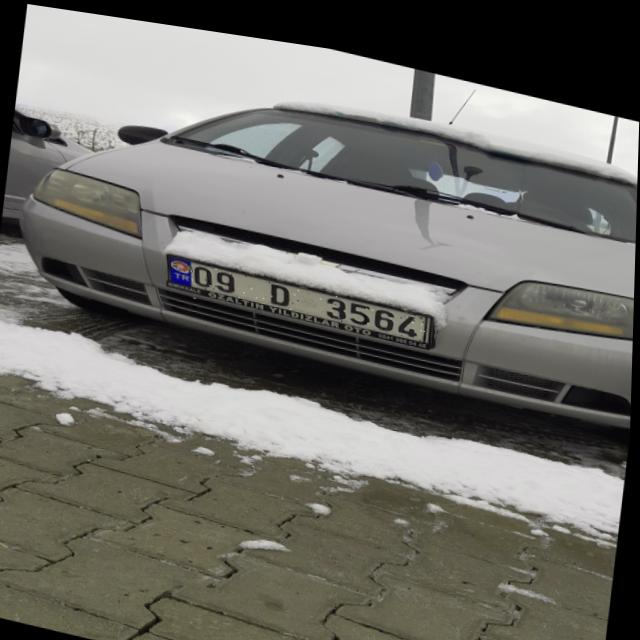license_plate: (167, 249, 430, 330)
